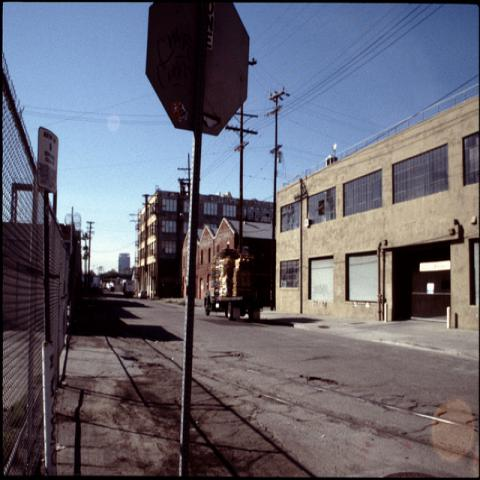truck: (203, 249, 265, 321), (122, 280, 135, 297)
